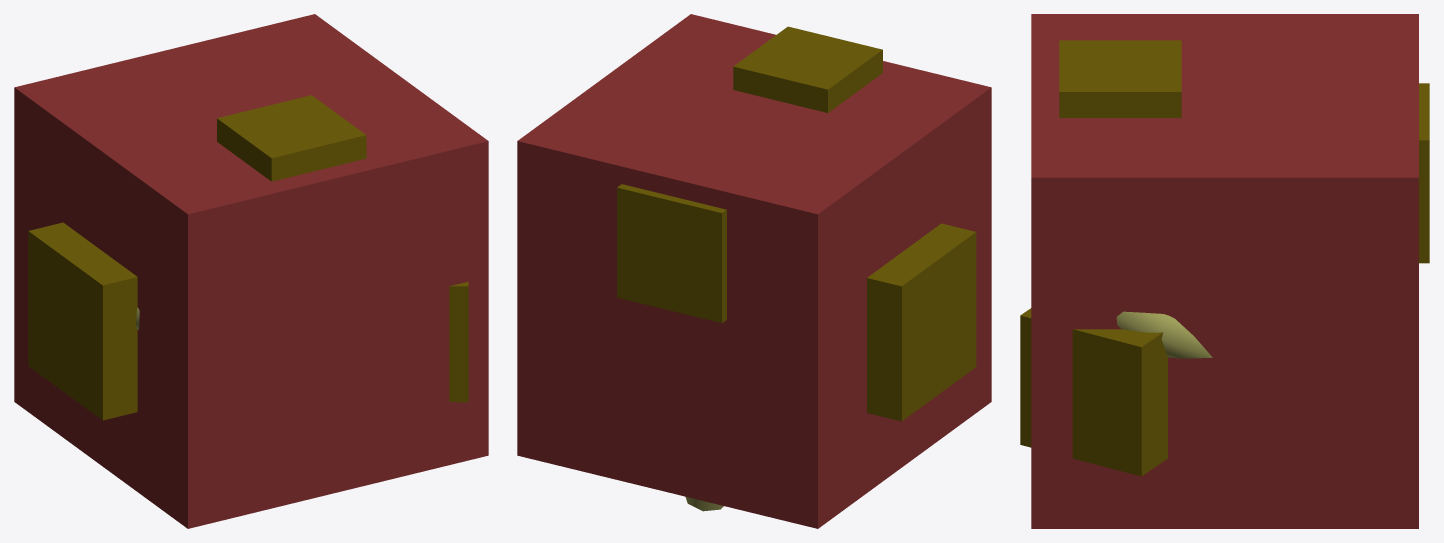
Rendered from small_bite_spaguetti.fbx.
3 views of the same model, side by side, from view 1: azimuth 30°, elevation 25°; view 2: azimuth 150°, elevation 25°; view 3: azimuth 270°, elevation 25° (orthographic). The views are drawn at different scales.
Parts seen in each view (by area): view 1: pCube20, pCube23, pCube24, pCube22; view 2: pCube20, pCube23, pCube21, pCube24; view 3: pCube20, pCube22, pCube24, sweep1, pCube21.
Boxes of the visible parts, <box> form: pCube20: <box>14,14,488,528</box>; pCube23: <box>28,222,137,420</box>; pCube24: <box>217,95,366,181</box>; pCube22: <box>449,281,468,402</box>; pCube20: <box>517,14,991,528</box>; pCube23: <box>867,223,976,421</box>; pCube21: <box>617,184,726,322</box>; pCube24: <box>733,26,882,112</box>; pCube20: <box>1031,14,1418,528</box>; pCube22: <box>1020,308,1167,476</box>; pCube24: <box>1059,40,1181,117</box>; sweep1: <box>1116,311,1212,358</box>; pCube21: <box>1419,83,1429,263</box>.
Size of the model in its own units: 653 by 600 by 562.
